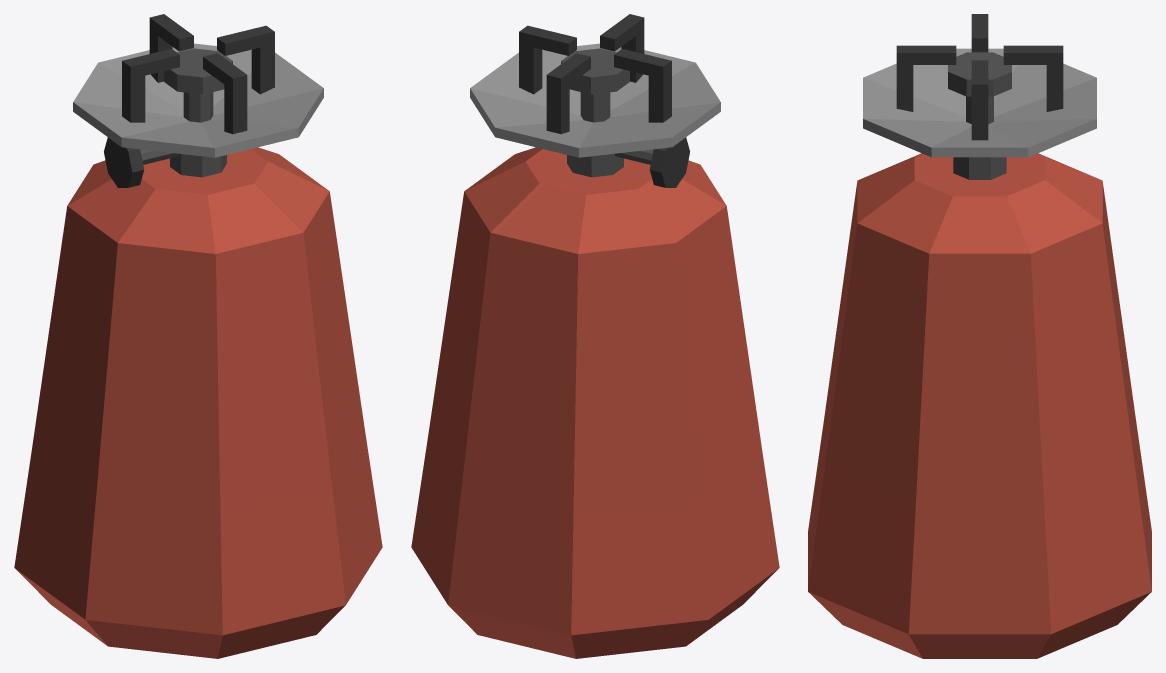
The model's file is Gas_03.fbx.
3 views of the same model, side by side, from view 1: azimuth 30°, elevation 25°; view 2: azimuth 150°, elevation 25°; view 3: azimuth 270°, elevation 25° (orthographic).
Parts seen in each view (by area): view 1: Gas_03; view 2: Gas_03; view 3: Gas_03.
Boxes of the visible parts, x1,y1,x2,y2 form: Gas_03: (14, 14, 382, 658); Gas_03: (411, 14, 779, 658); Gas_03: (808, 14, 1151, 658).
Size of the model in its own units: 22.43 by 39.68 by 22.43.
